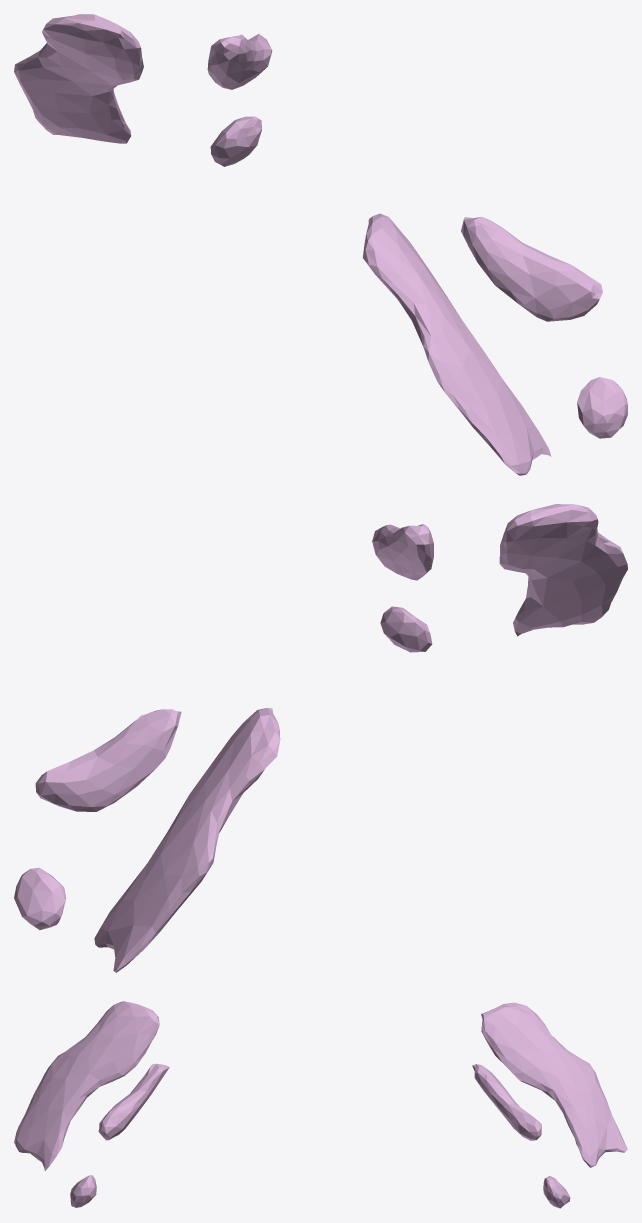
3 renders of one model, top to bottom at view 1: azimuth 30°, elevation 25°; view 2: azimuth 150°, elevation 25°; view 3: azimuth 270°, elevation 25°, orthographic. The views are drawn at different scales.
Parts seen in each view (by area): view 1: 374.obj; view 2: 374.obj; view 3: 374.obj.
Boxes of the visible parts, left/top/right/bottom form: 374.obj: left=14, top=14, right=627, bottom=475; 374.obj: left=14, top=504, right=627, bottom=972; 374.obj: left=14, top=1001, right=627, bottom=1208.
Size of the model in its own units: 1117 by 998 by 3849.
